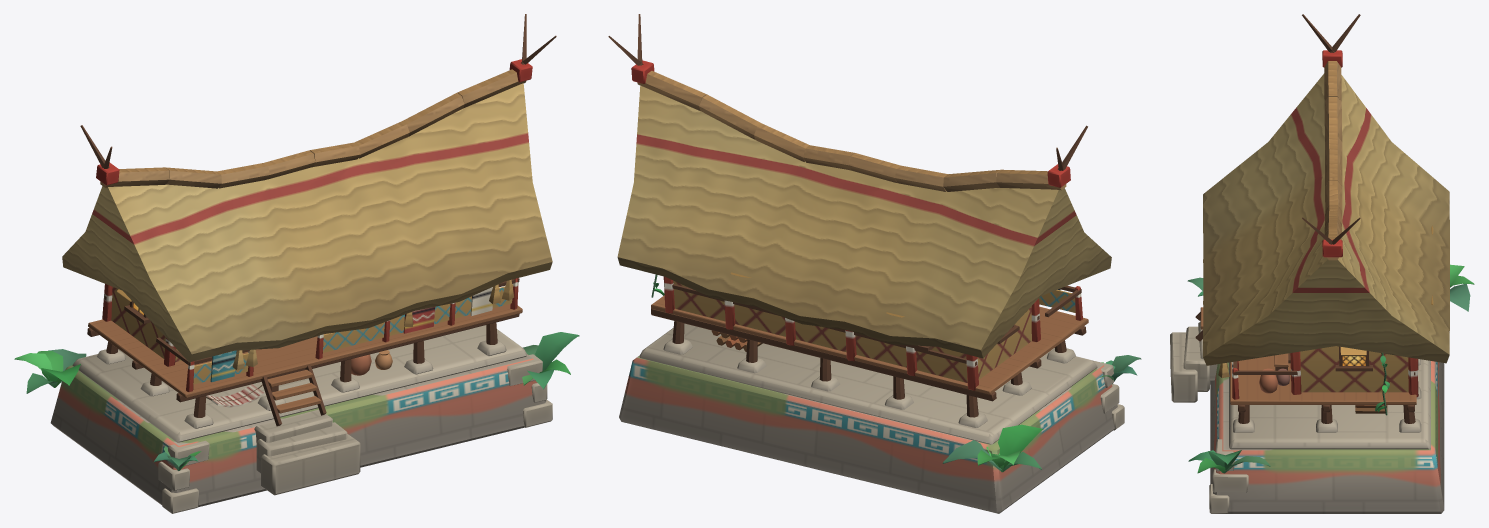
The model's file is house_long.glb.
3 views of the same model, side by side, from view 1: azimuth 30°, elevation 25°; view 2: azimuth 150°, elevation 25°; view 3: azimuth 270°, elevation 25° (orthographic). The views are drawn at different scales.
Visible parts, largest first — view 1: house_long; view 2: house_long; view 3: house_long.
Boxes of the visible parts, box(x1,y1,x2,y2) form: house_long: box(14, 14, 579, 513); house_long: box(608, 14, 1141, 513); house_long: box(1170, 14, 1474, 513).
Size of the model in its own units: 17.79 by 12.36 by 10.62.
Materials: 2 (2 with a texture image).
